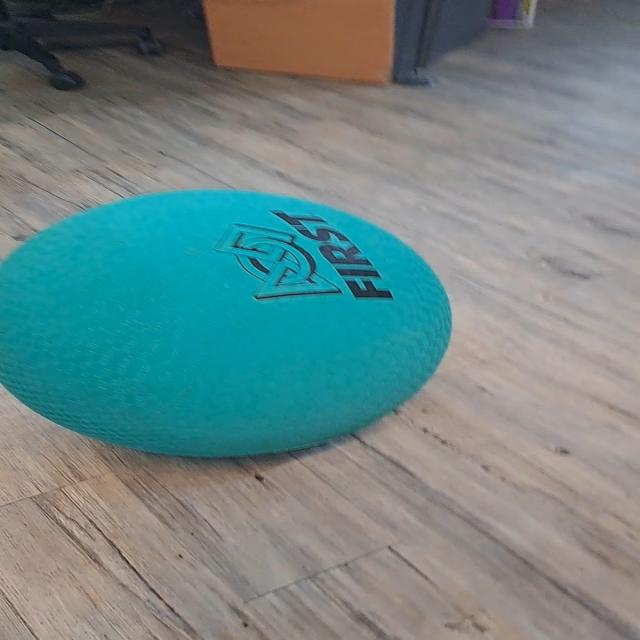ALGAE: (1, 187, 454, 459)
